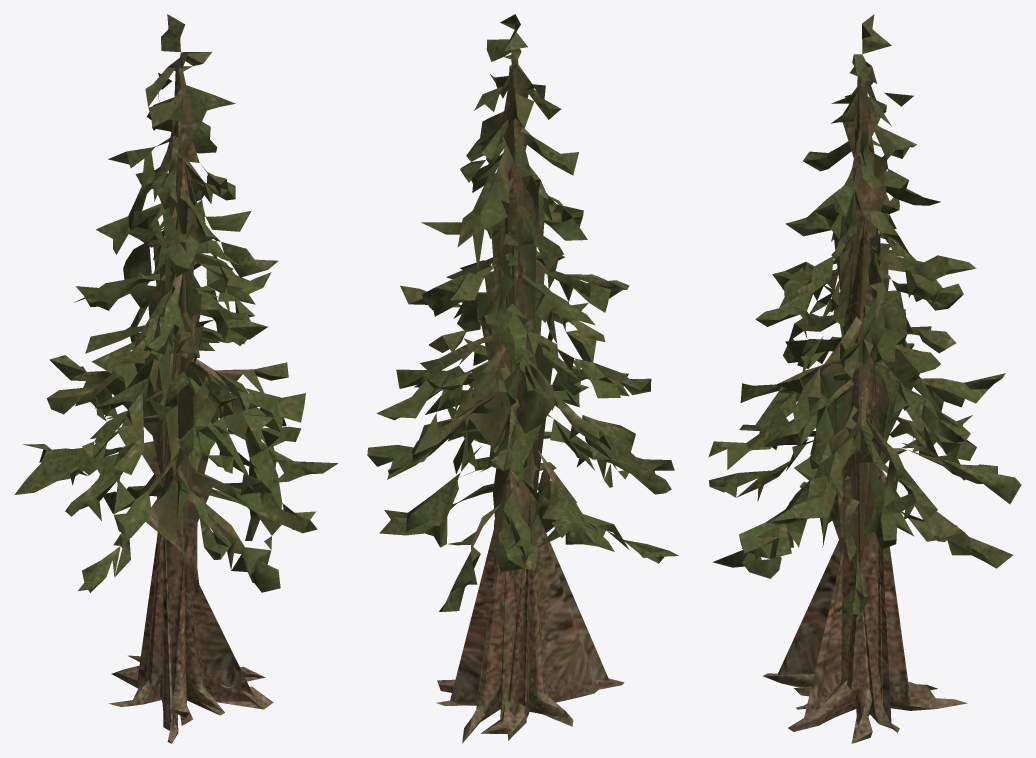
Rendered from pine_lite.glb.
3 views of the same model, side by side, from view 1: azimuth 30°, elevation 25°; view 2: azimuth 150°, elevation 25°; view 3: azimuth 270°, elevation 25° (orthographic). The views are drawn at different scales.
Visible parts, largest first — view 1: geometry_0; view 2: geometry_0; view 3: geometry_0.
Boxes of the visible parts, box(x1,y1,x2,y2) form: geometry_0: box(14, 14, 337, 743); geometry_0: box(367, 14, 678, 743); geometry_0: box(708, 14, 1021, 743).
Size of the model in its own units: 0.7305 by 1.8 by 0.7413.
Materials: 1 (1 with a texture image).
